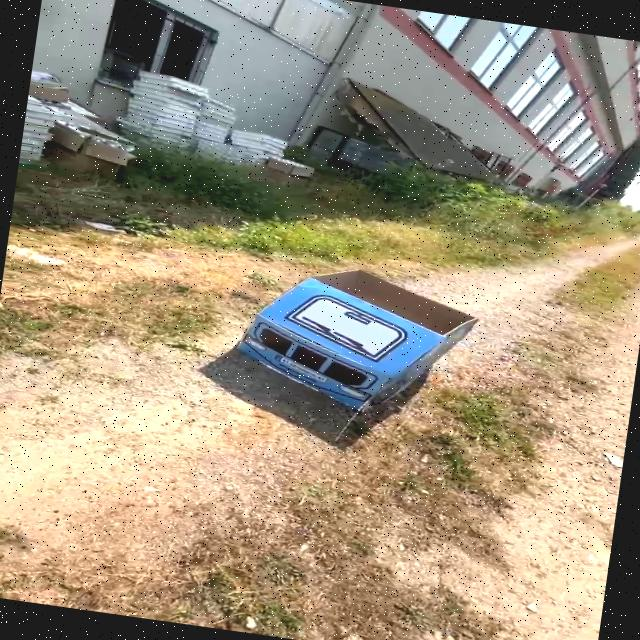blue_car: (214, 250, 485, 439)
